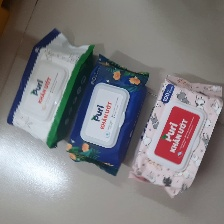Puri Trang: (7, 27, 95, 153)
Puri Xanh: (65, 54, 151, 180)
Puri hong: (128, 71, 224, 199)
